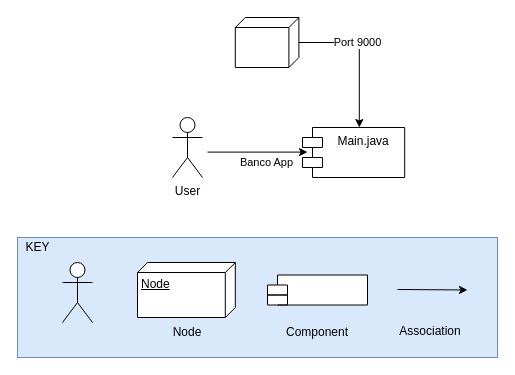
Image size: 515x375. Some labels were removed from this diagram. The shapes that lost their labels are listed below. From the top down, each one's centre as x and y in pixels, then its label:
pixel 266 42: JVM
pixel 77 292: Actor
